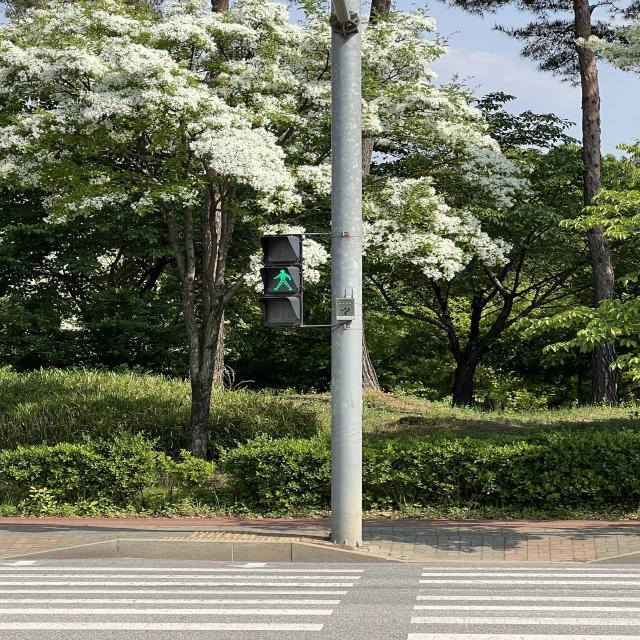crosswalk: (7, 532, 640, 640)
green-light: (256, 234, 313, 331)
